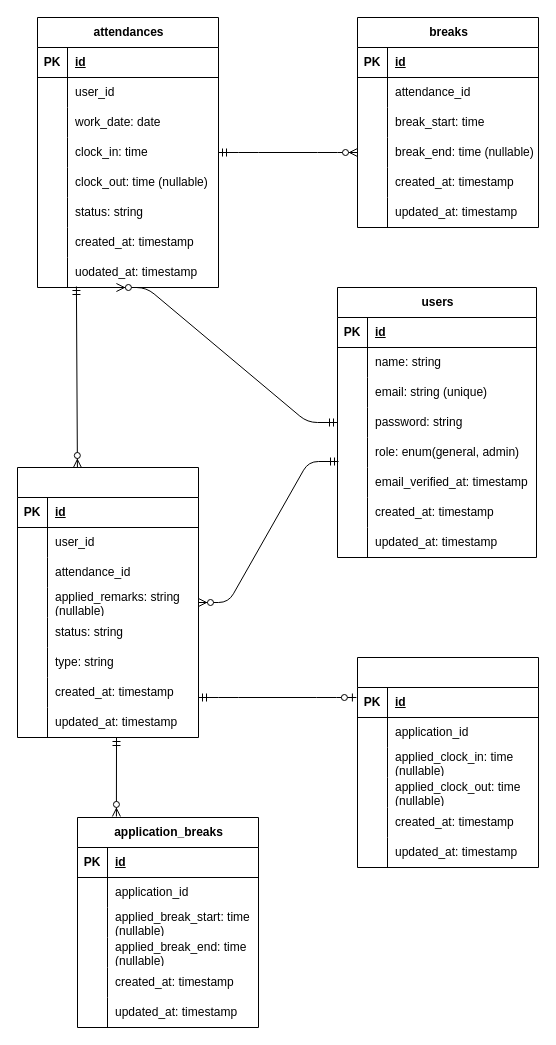
This 556x1045 diagram has some shape labels left out. The shapes that lost their labels are listed below. From the top down, each one's box as (x1, y1, x2, y2) in pixels, then its label:
(16, 466, 198, 738): applications
(356, 656, 538, 868): application_attendances
